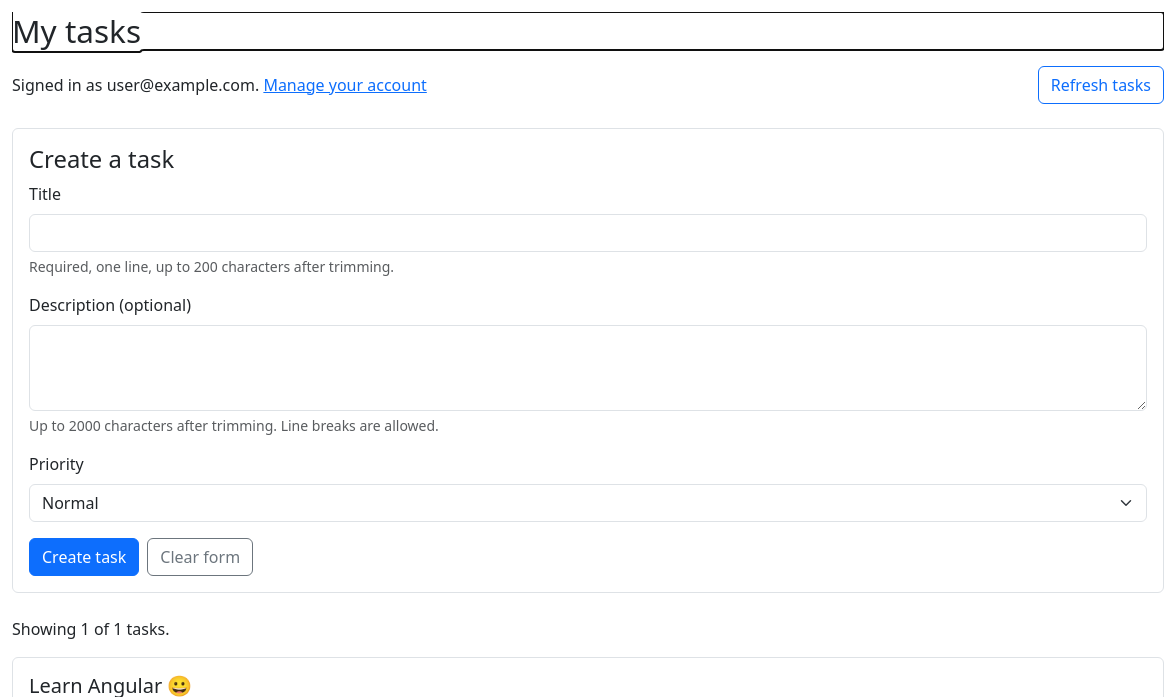
Test: Tasks list page › refreshes explicitly, hides old data while loading and disables duplicate refresh
Step 1. Click the button "Refresh tasks" → (1101, 85), box [1038,66,1164,104]
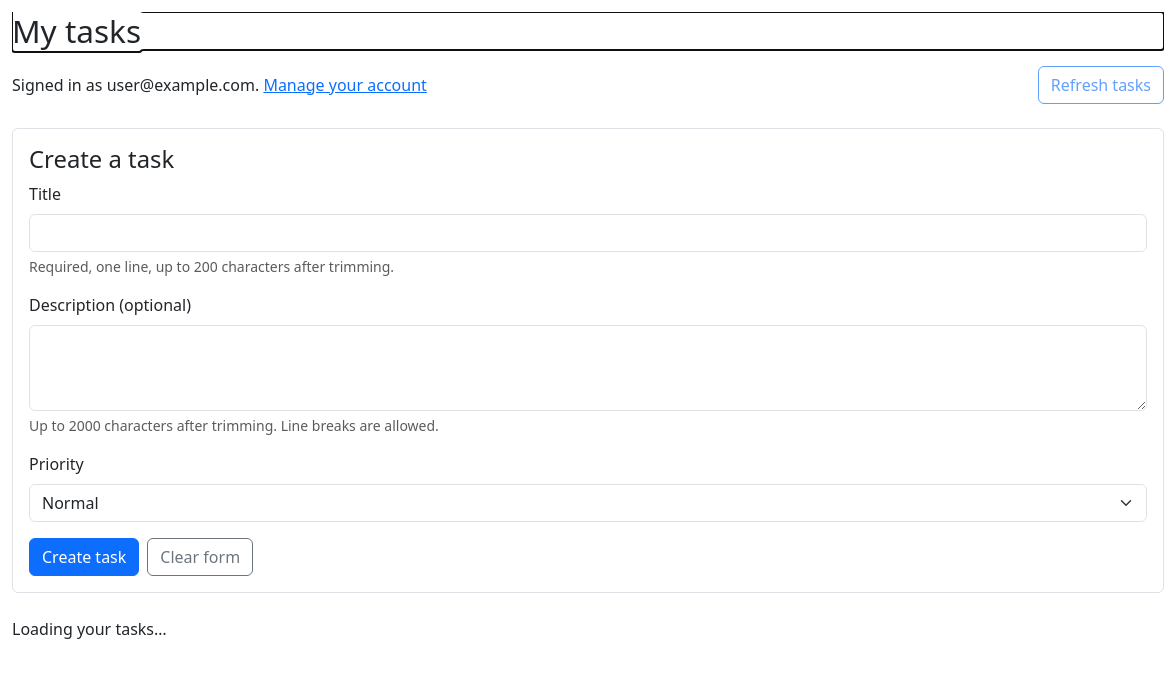
Check: the button "Refresh tasks" is disabled
Step 2. Click the button "Refresh tasks" → (1101, 85), box [1038,66,1164,104]
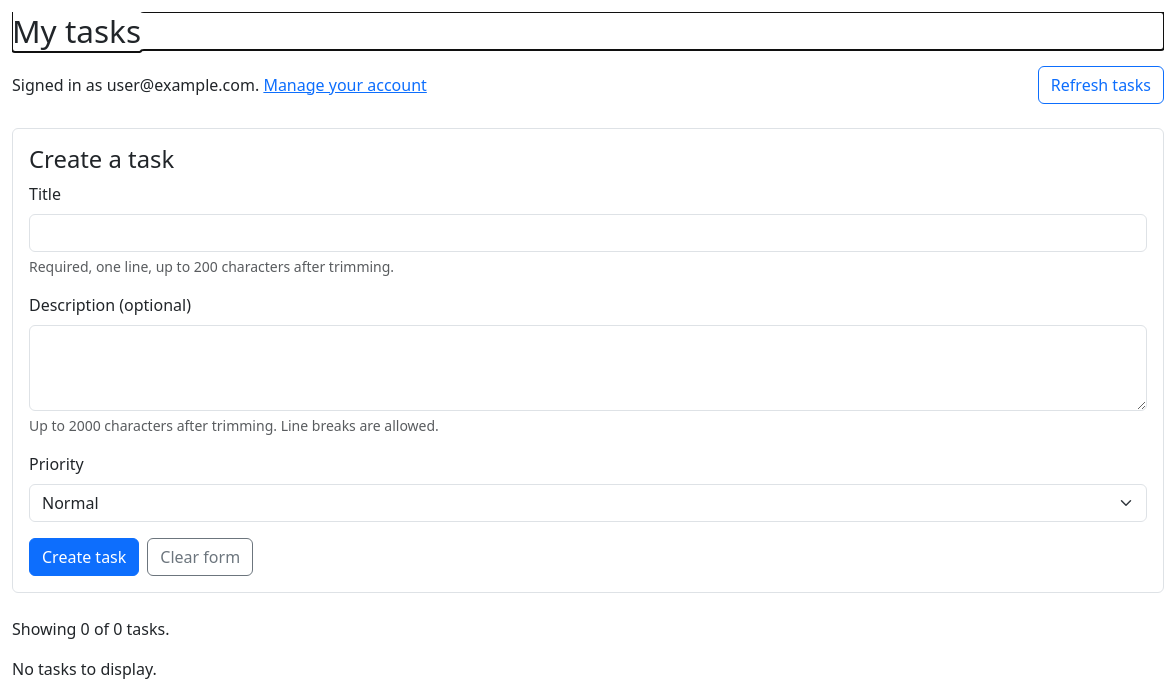
Check: the text "No tasks to display." is shown, box [12,658,157,680]
